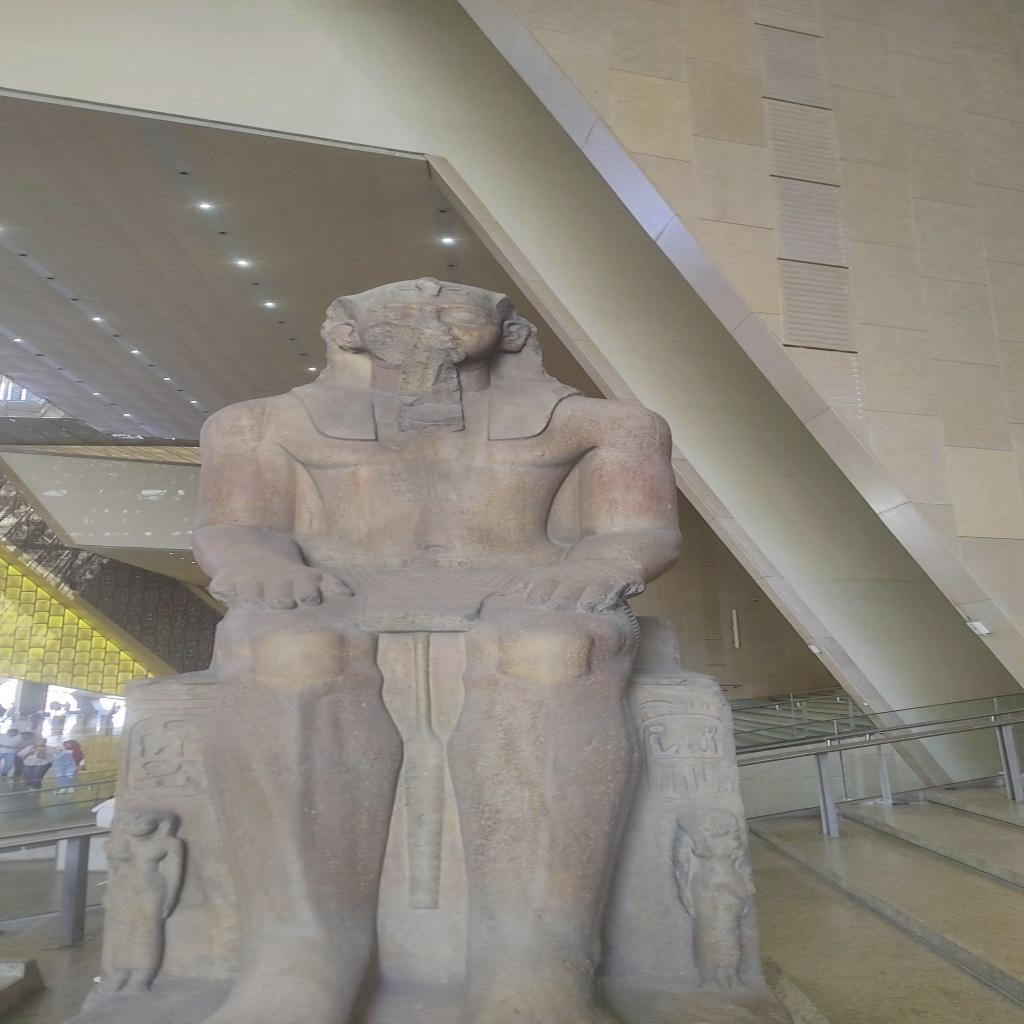Colossal Statue of Middle Kingdom King: (72, 275, 769, 1021)
